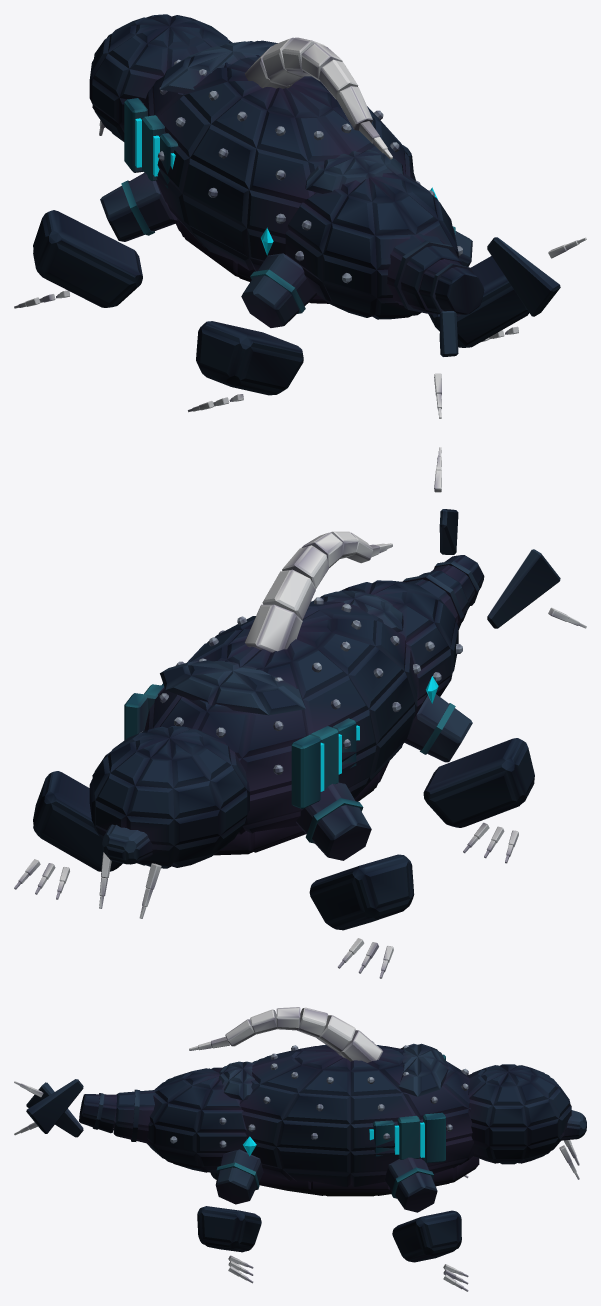
Rendered from Selkie.glb.
3 views of the same model, one above another, from view 1: azimuth 30°, elevation 25°; view 2: azimuth 150°, elevation 25°; view 3: azimuth 270°, elevation 25° (orthographic). The views are drawn at different scales.
Parts seen in each view (by area): view 1: Body__Tex, Head__Tex, FinFL2__Tex, Tail2__Tex, FinBL2__Tex, FinBL1__Tex, FinBR2__Tex, FinFL1__Tex, Tail1__Tex, Body__Glow; view 2: Body__Tex, Head__Tex, FinBL2__Tex, FinFL2__Tex, FinFR2__Tex, Tail2__Tex, FinFL1__Tex, FinBL1__Tex, Tail1__Tex; view 3: Body__Tex, Head__Tex, Tail2__Tex, FinFR2__Tex, FinBR2__Tex, FinFR1__Tex, FinBR1__Tex, Tail1__Tex, Body__Glow.
Boxes of the visible parts, <box> form: Body__Tex: <box>124,37,462,319</box>; Head__Tex: <box>89,14,232,141</box>; FinFL2__Tex: <box>14,210,142,308</box>; Tail2__Tex: <box>419,237,586,418</box>; FinBL2__Tex: <box>188,321,303,412</box>; FinBL1__Tex: <box>241,253,316,327</box>; FinBR2__Tex: <box>428,256,529,347</box>; FinFL1__Tex: <box>100,172,177,241</box>; Tail1__Tex: <box>387,233,463,314</box>; Body__Glow: <box>135,118,437,255</box>; Body__Tex: <box>124,531,462,855</box>; Head__Tex: <box>89,726,249,918</box>; FinBL2__Tex: <box>423,738,534,863</box>; FinFL2__Tex: <box>309,854,414,978</box>; FinFR2__Tex: <box>14,771,122,899</box>; Tail2__Tex: <box>431,447,586,628</box>; FinFL1__Tex: <box>296,782,371,860</box>; FinBL1__Tex: <box>404,694,472,762</box>; Tail1__Tex: <box>402,571,468,629</box>; Body__Tex: <box>146,1007,479,1196</box>; Head__Tex: <box>468,1064,586,1179</box>; Tail2__Tex: <box>14,1079,116,1137</box>; FinFR2__Tex: <box>392,1210,468,1291</box>; FinBR2__Tex: <box>197,1206,261,1283</box>; FinFR1__Tex: <box>384,1157,437,1212</box>; FinBR1__Tex: <box>215,1149,263,1204</box>; Tail1__Tex: <box>113,1089,155,1143</box>; Body__Glow: <box>243,1122,424,1157</box>.
Size of the model in its own units: 4.62 by 3.61 by 8.53.
